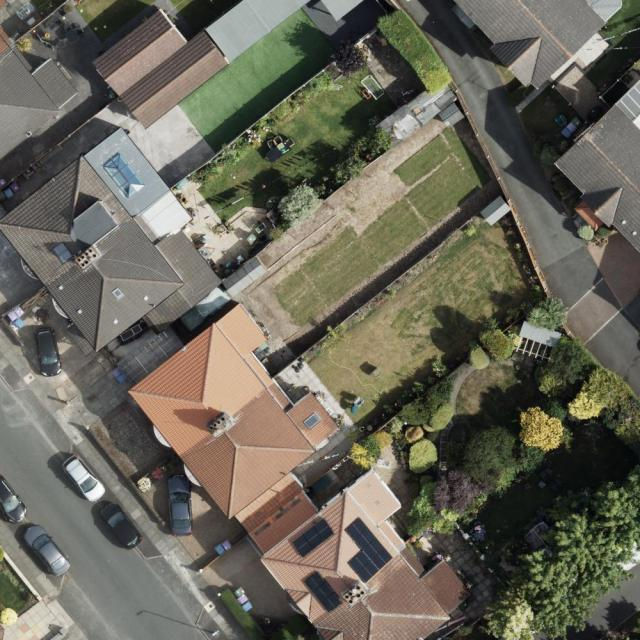roof: (127, 302, 475, 640), (0, 125, 223, 358), (91, 8, 230, 130), (451, 0, 622, 90), (554, 78, 640, 253), (0, 24, 80, 162)
skylight: (102, 151, 146, 199), (51, 243, 75, 266), (302, 410, 324, 432), (112, 285, 126, 301)
solar: (344, 517, 394, 584), (291, 517, 336, 558), (305, 570, 343, 612)
